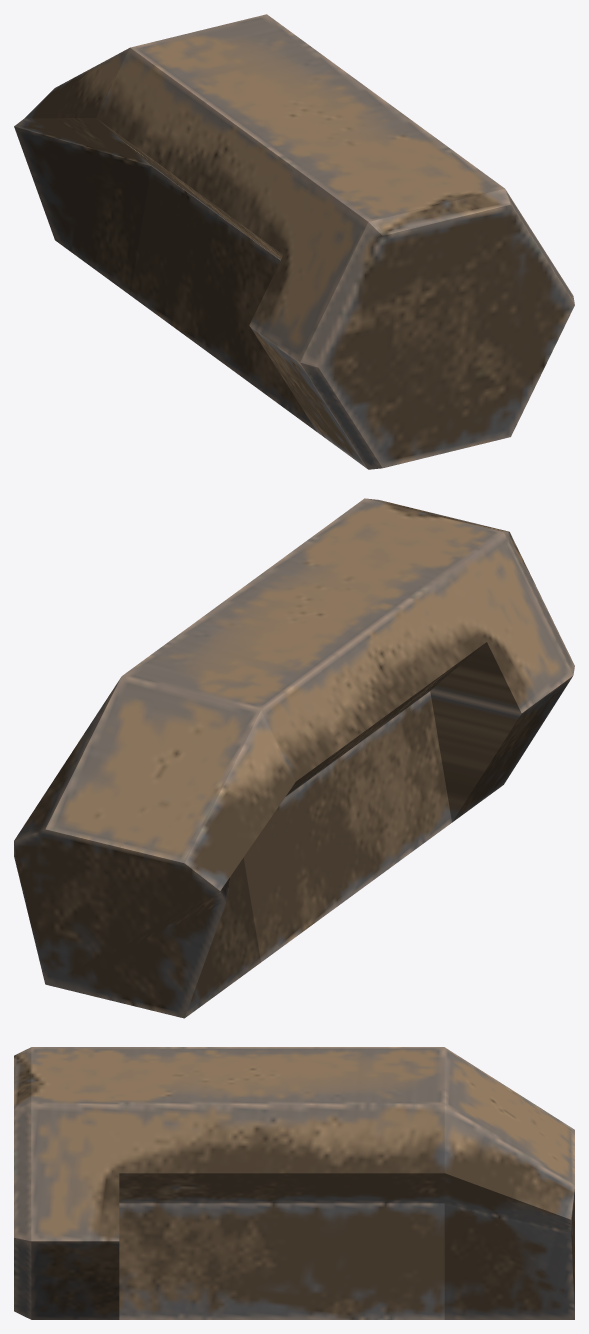
Rendered from LP-12FuelBox.fbx.
The picture shows the model from 3 angles, top to bottom: view 1: azimuth 30°, elevation 25°; view 2: azimuth 150°, elevation 25°; view 3: azimuth 270°, elevation 25°; orthographic projection. The views are drawn at different scales.
Parts seen in each view (by area): view 1: LP-12FuelBox; view 2: LP-12FuelBox; view 3: LP-12FuelBox.
Boxes of the visible parts, left/top/right/bottom form: LP-12FuelBox: left=14, top=14, right=574, bottom=469; LP-12FuelBox: left=14, top=498, right=574, bottom=1018; LP-12FuelBox: left=14, top=1047, right=574, bottom=1319.
Size of the model in its own units: 0.0945 by 0.0818 by 0.1936.
